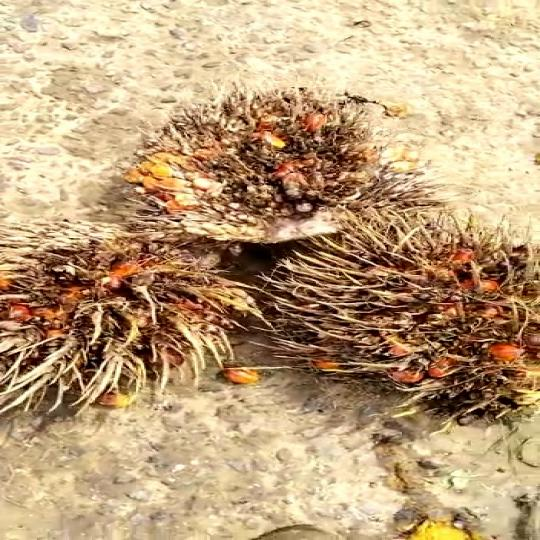terlalu masak: (251, 197, 540, 407), (96, 84, 404, 248), (0, 228, 262, 402)
